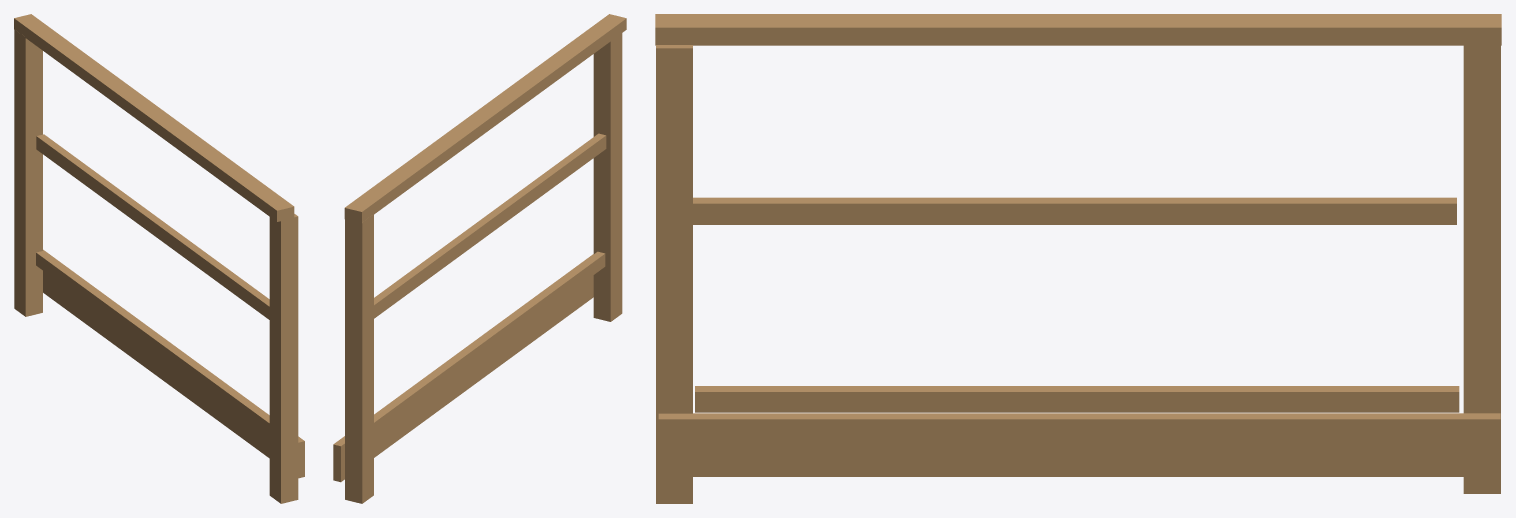
File: frame-1.glb
3 renders of one model, left to right at view 1: azimuth 30°, elevation 25°; view 2: azimuth 150°, elevation 25°; view 3: azimuth 270°, elevation 25°, orthographic. The views are drawn at different scales.
Parts seen in each view (by area): view 1: Cube.005; view 2: Cube.005; view 3: Cube.005.
Boxes of the visible parts, x1=… form: Cube.005: x1=14, y1=14, x2=304, y2=503; Cube.005: x1=333, y1=14, x2=626, y2=503; Cube.005: x1=655, y1=14, x2=1501, y2=503.
Bounding box in the file's own units: 0.6545 × 6.38 × 10.33.
